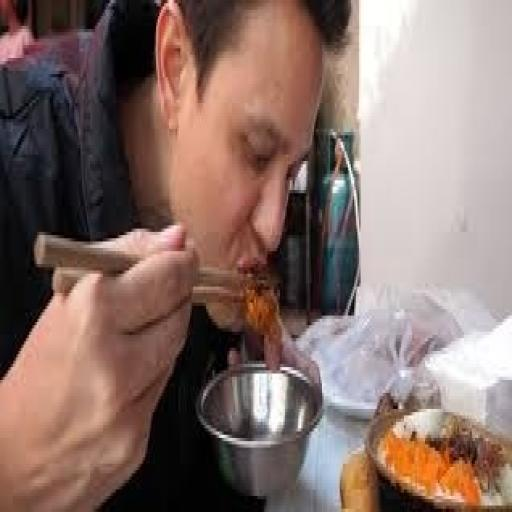eating: (2, 0, 352, 506)
